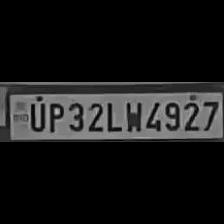2: (84, 99, 104, 133), (181, 98, 199, 132)
3: (65, 99, 84, 133)
4: (142, 97, 162, 132)
7: (198, 98, 218, 132)
9: (160, 98, 180, 132)
L: (102, 99, 120, 133)
P: (46, 100, 64, 134)
U: (26, 99, 44, 133)
W: (121, 98, 141, 134)
